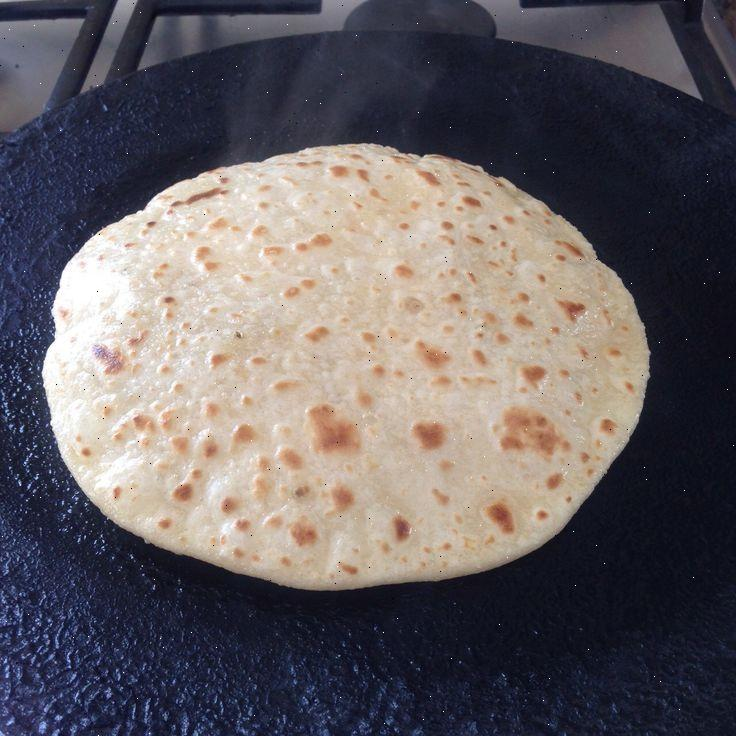roti phulka: (39, 127, 666, 595)
